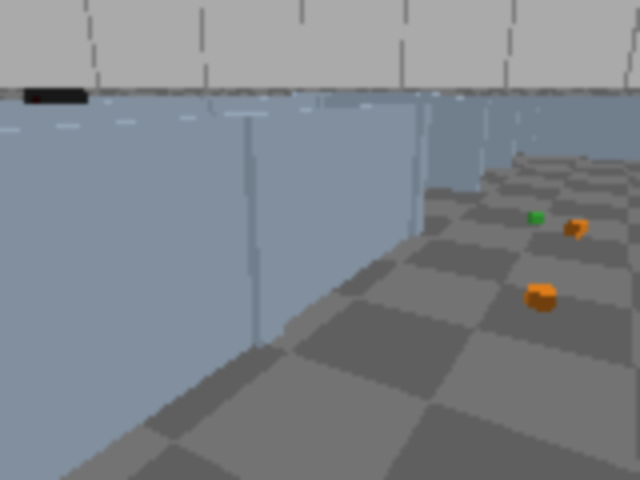puck: (524, 283, 557, 311), (564, 219, 587, 238), (526, 212, 546, 225)
